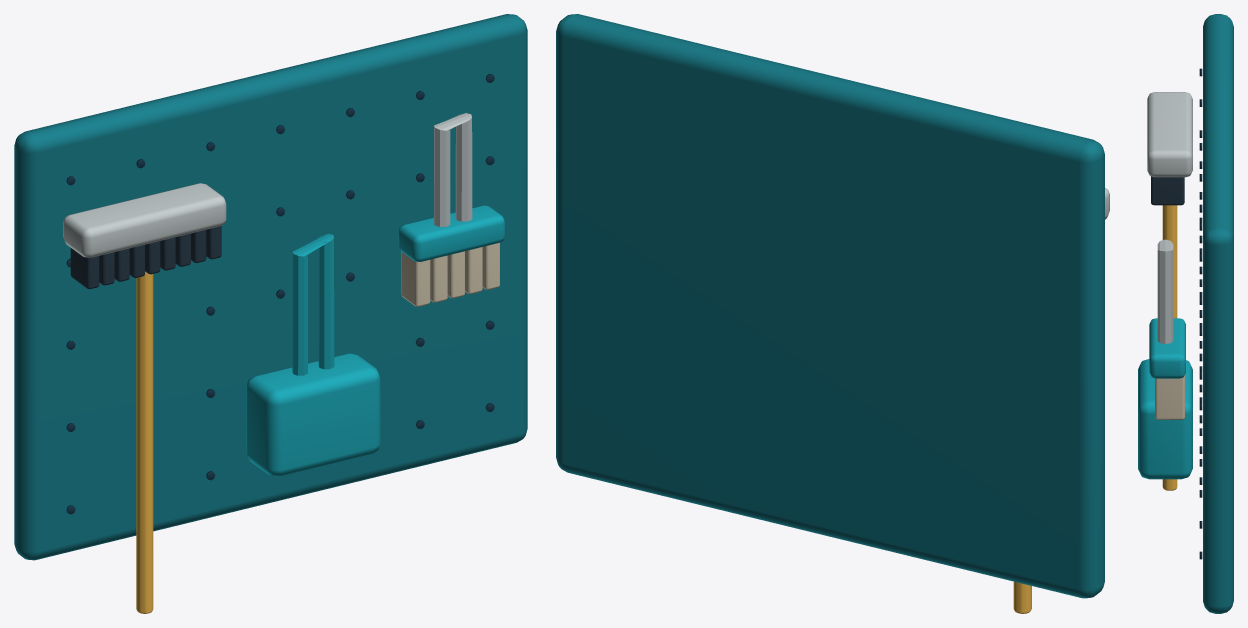
The model's file is Utility_Toolboard.glb.
3 renders of one model, left to right at view 1: azimuth 30°, elevation 25°; view 2: azimuth 150°, elevation 25°; view 3: azimuth 270°, elevation 25°, orthographic. The views are drawn at different scales.
Parts seen in each view (by area): view 1: Utility_Toolboard__Visual, Broom_Pickup__Visual, Dustpan_Pickup__Visual, Hand_Brush_Pickup__Visual; view 2: Utility_Toolboard__Visual; view 3: Utility_Toolboard__Visual, Broom_Pickup__Visual, Hand_Brush_Pickup__Visual, Dustpan_Pickup__Visual.
Part boxes in pixels (x1,y1,x2,y2): Utility_Toolboard__Visual: (14,14,527,560); Broom_Pickup__Visual: (63,183,226,613); Dustpan_Pickup__Visual: (246,233,380,476); Hand_Brush_Pickup__Visual: (398,113,504,306); Utility_Toolboard__Visual: (556,14,1104,598); Utility_Toolboard__Visual: (1199,14,1233,613); Broom_Pickup__Visual: (1147,92,1192,490); Hand_Brush_Pickup__Visual: (1149,239,1185,419); Dustpan_Pickup__Visual: (1138,359,1192,479).
Bounding box in the file's own units: 1.16 × 1.05 × 0.21.
Materials: 1 (1 with a texture image).
